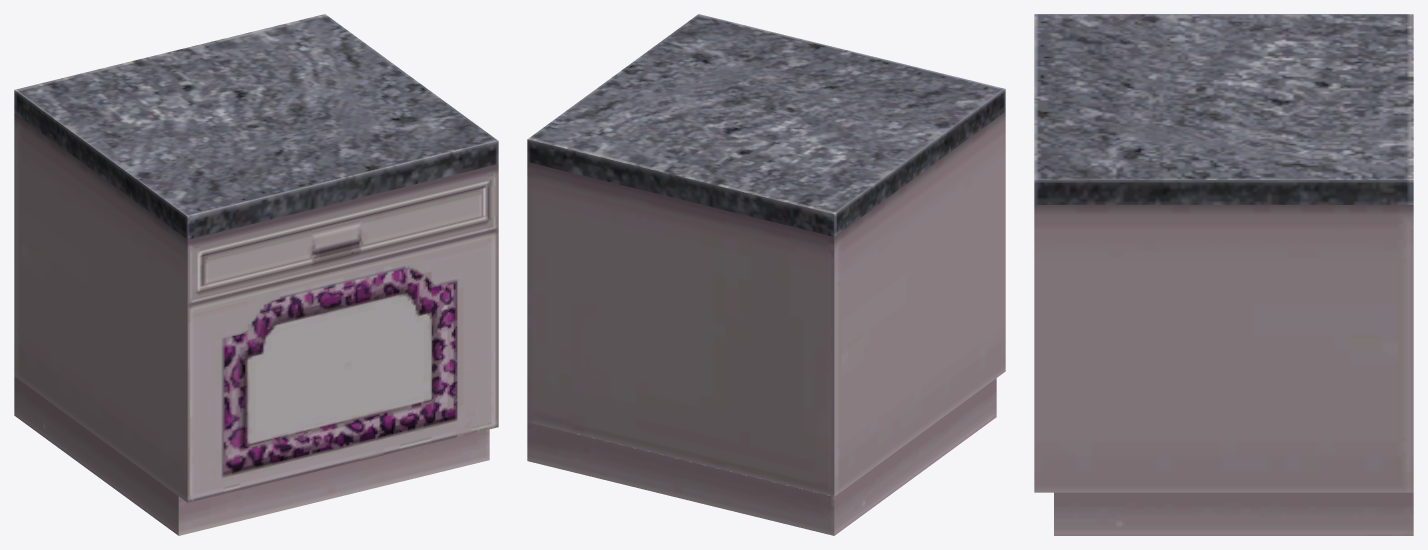
Rendered from furni_0200087_02.FBX.
3 views of the same model, side by side, from view 1: azimuth 30°, elevation 25°; view 2: azimuth 150°, elevation 25°; view 3: azimuth 270°, elevation 25° (orthographic). The views are drawn at different scales.
Parts seen in each view (by area): view 1: furni_0200087_02; view 2: furni_0200087_02; view 3: furni_0200087_02.
Boxes of the visible parts, x1,y1,x2,y2 form: furni_0200087_02: (14, 14, 498, 535); furni_0200087_02: (527, 14, 1005, 535); furni_0200087_02: (1034, 14, 1413, 535).
Size of the model in its own units: 79.88 by 80 by 77.2.
1 material, 1 textured.
